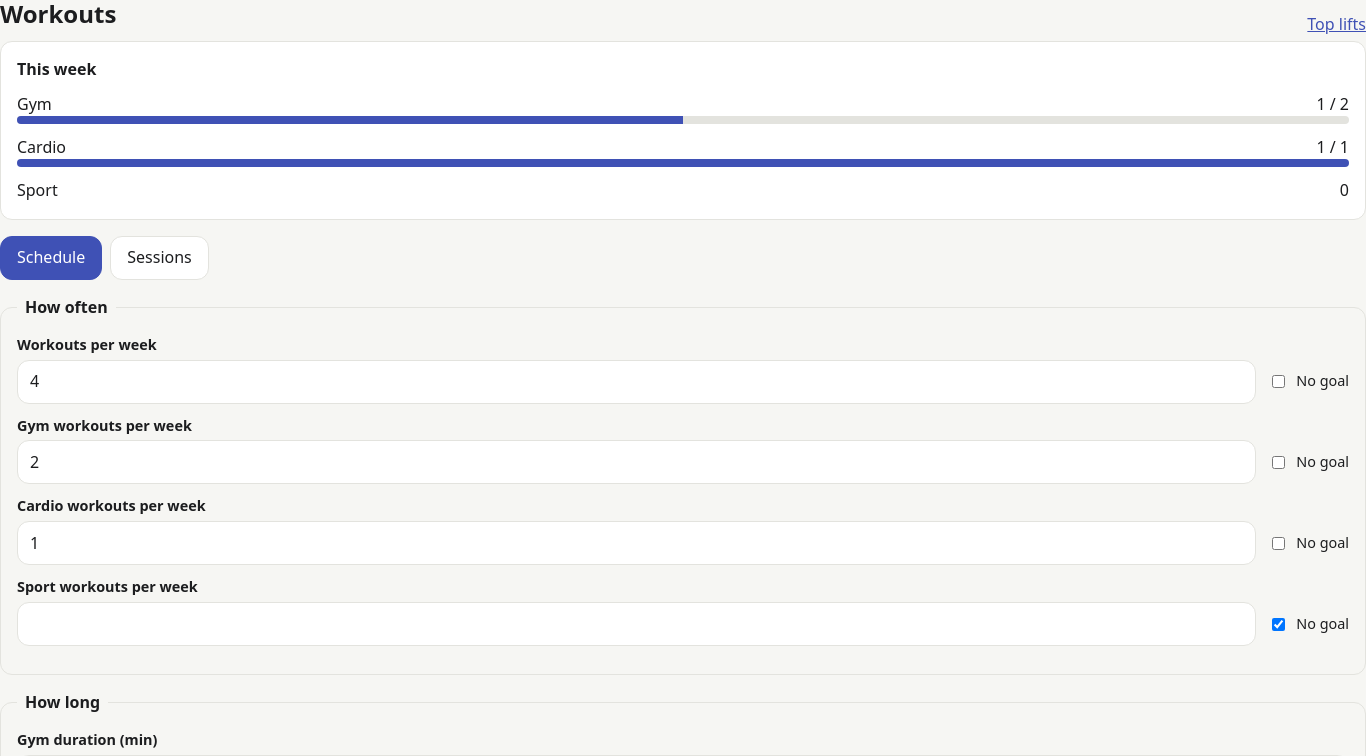
Test case: cardio session shows pace 6:00 /km for 5 km in 30 min
Click the tab "Sessions" at (160, 258), box [110, 236, 209, 280]
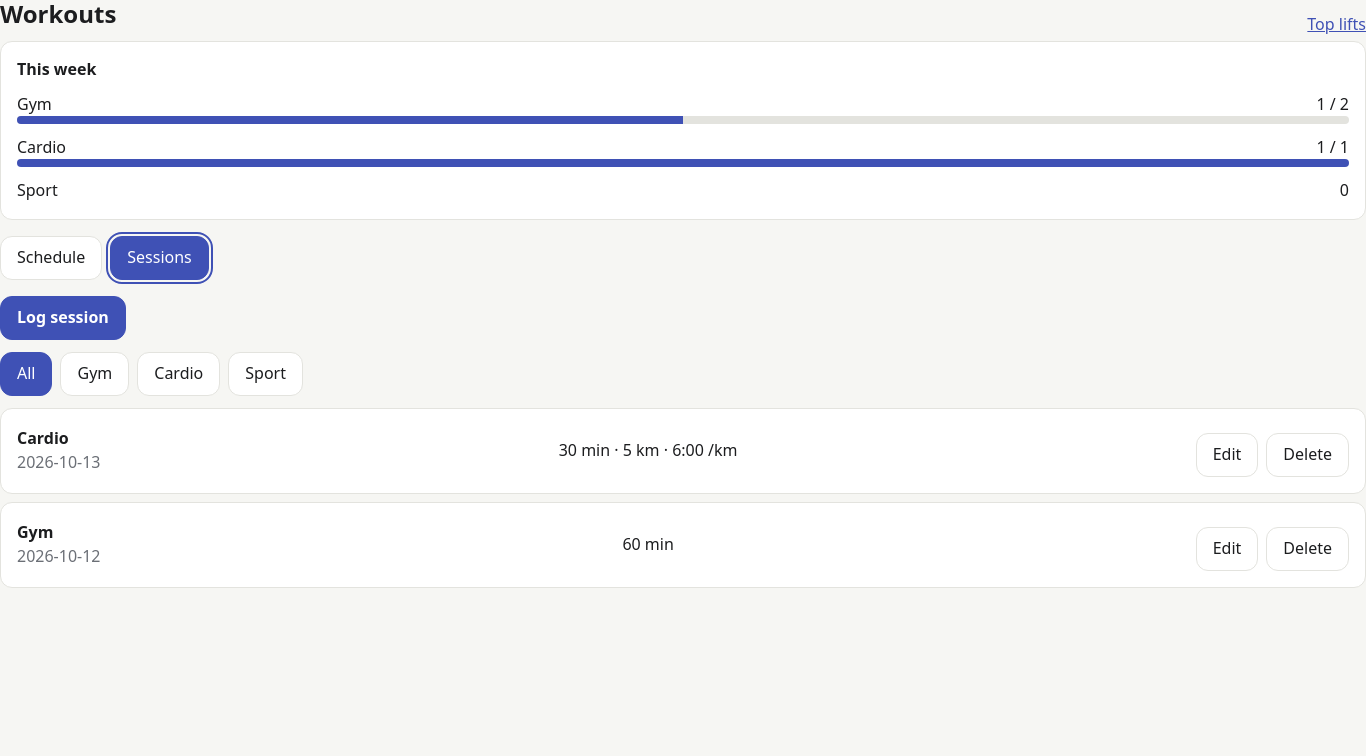
Expected: the text "1 / 2" is shown, [1316, 93, 1349, 116]
Expected: the text "30 min · 5 km · 6:00 /km" is shown, [559, 439, 738, 462]
